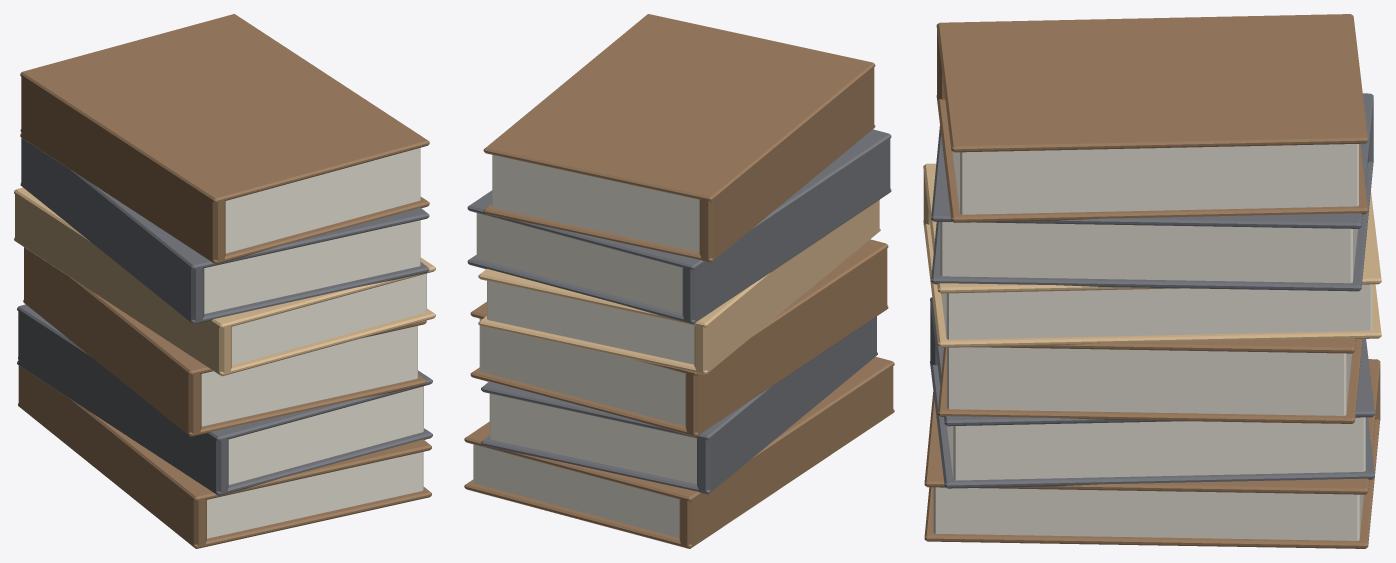
File: wedding-and-chapel-kit-hymnal-stack-64580d4d__39390.glb
3 renders of one model, left to right at view 1: azimuth 30°, elevation 25°; view 2: azimuth 150°, elevation 25°; view 3: azimuth 270°, elevation 25°, orthographic. The views are drawn at different scales.
Visible parts, largest first — view 1: hymnal-stack; view 2: hymnal-stack; view 3: hymnal-stack.
Boxes of the visible parts, x1,y1,x2,y2 form: hymnal-stack: (14,14,435,548); hymnal-stack: (464,14,894,548); hymnal-stack: (923,14,1381,548).
Size of the model in its own units: 0.1478 by 0.199 by 0.2063.
